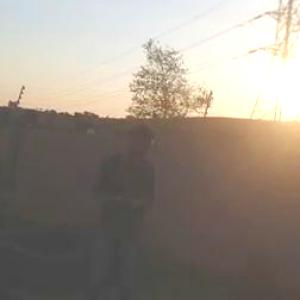follow: (83, 119, 163, 299)
